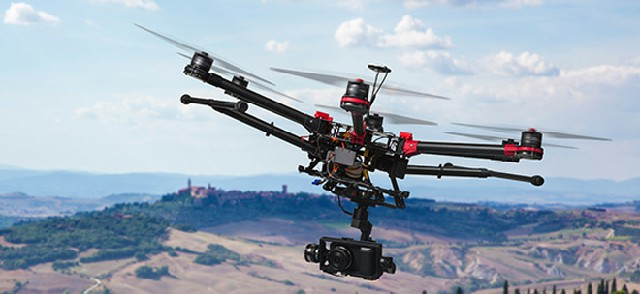maybay_khongnguoilai: (150, 24, 578, 264)
